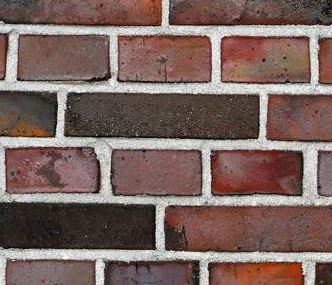brick: (62, 90, 261, 142), (161, 204, 332, 253), (1, 202, 158, 248), (218, 33, 314, 86), (116, 32, 213, 84), (209, 148, 306, 198), (109, 146, 204, 197), (18, 32, 112, 83), (5, 145, 100, 194), (168, 1, 332, 28), (1, 1, 163, 28), (266, 91, 332, 143), (1, 89, 60, 140), (104, 259, 202, 285), (4, 257, 98, 284), (210, 260, 305, 285)
